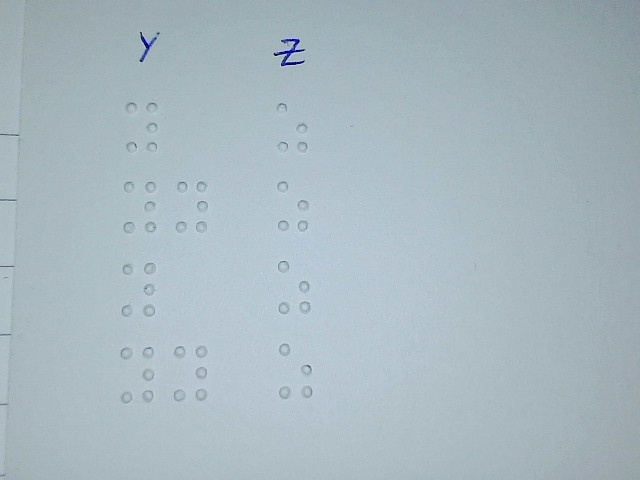Y: (172, 344, 209, 401), (124, 99, 160, 154), (173, 178, 209, 233), (121, 261, 157, 316)
Z: (278, 341, 315, 400), (276, 258, 312, 314), (274, 101, 310, 154), (275, 179, 311, 232)
